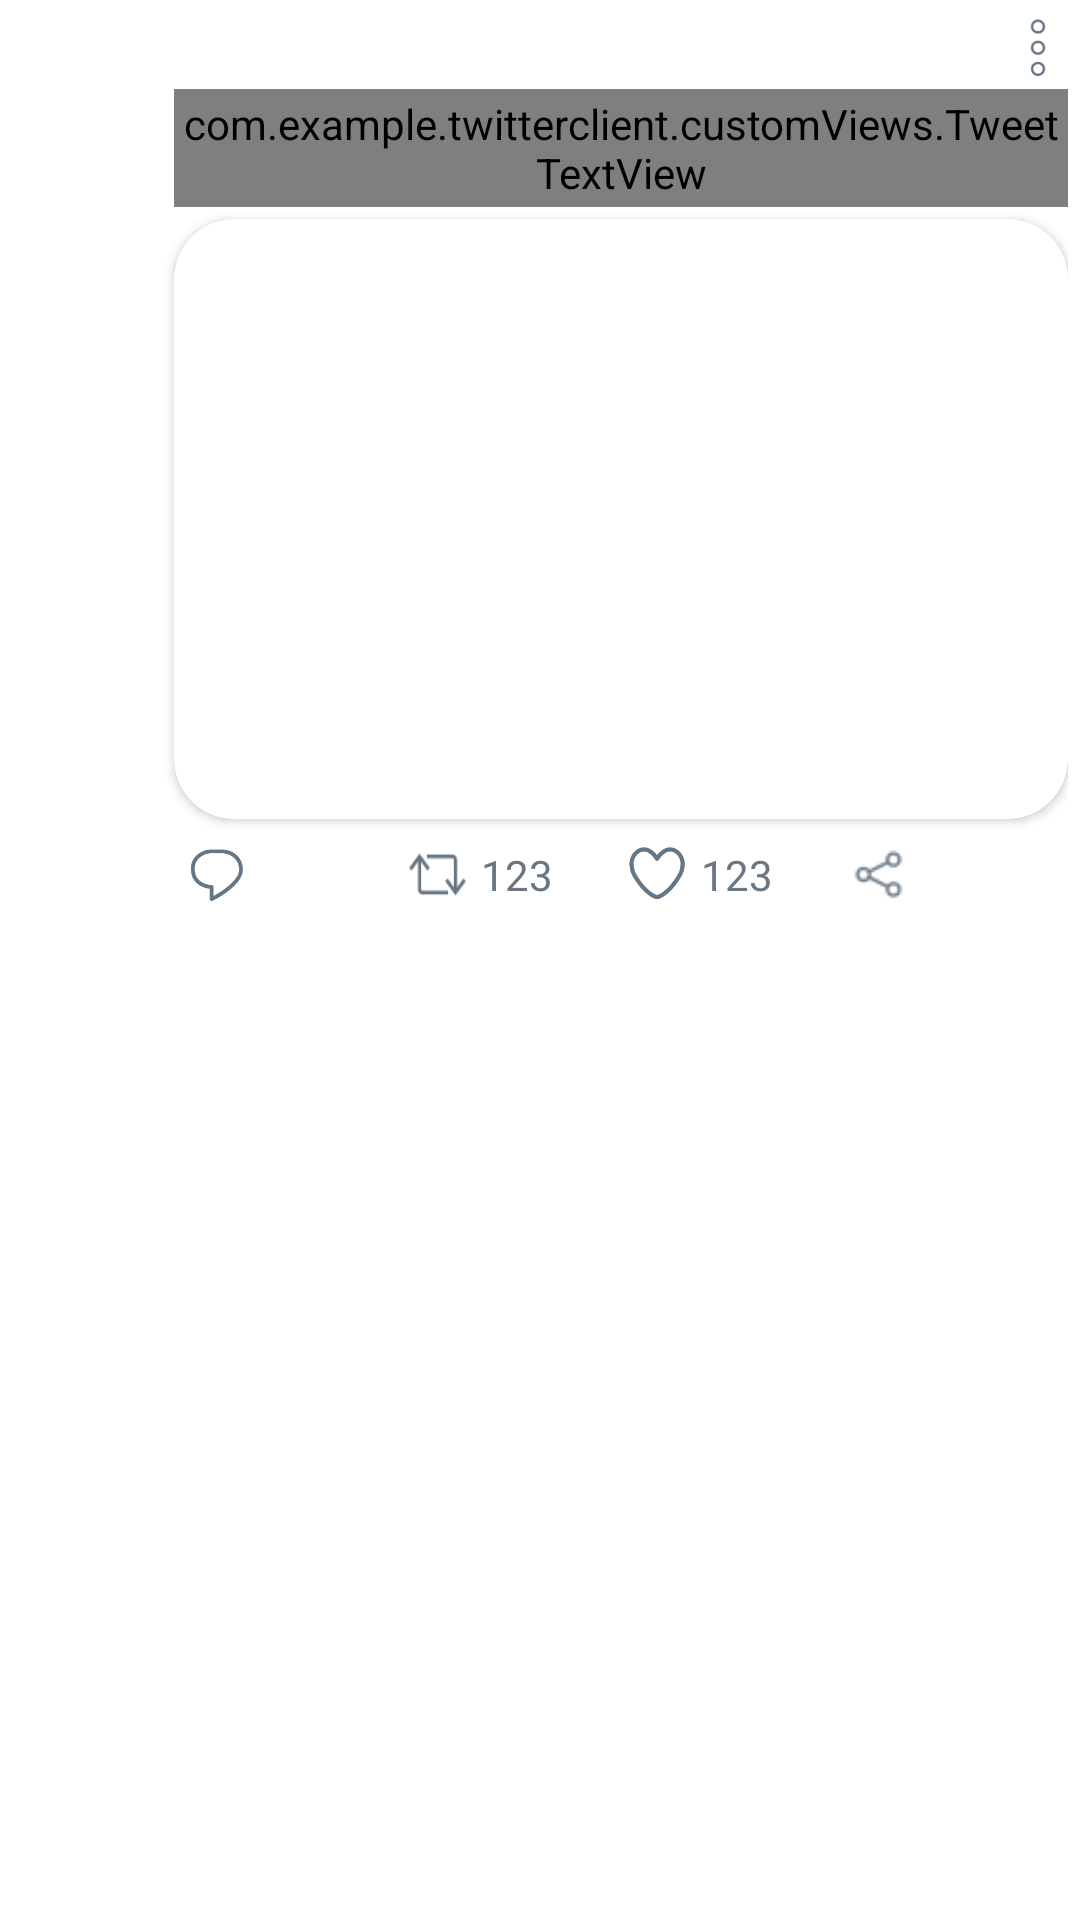

Screen size 1080x1920. Icon name, then its box in pixels as (x1, y1, x2, y2):
like: (629, 847, 685, 899)
options: (1030, 19, 1046, 76)
reply: (191, 849, 243, 901)
share: (855, 851, 902, 898)
